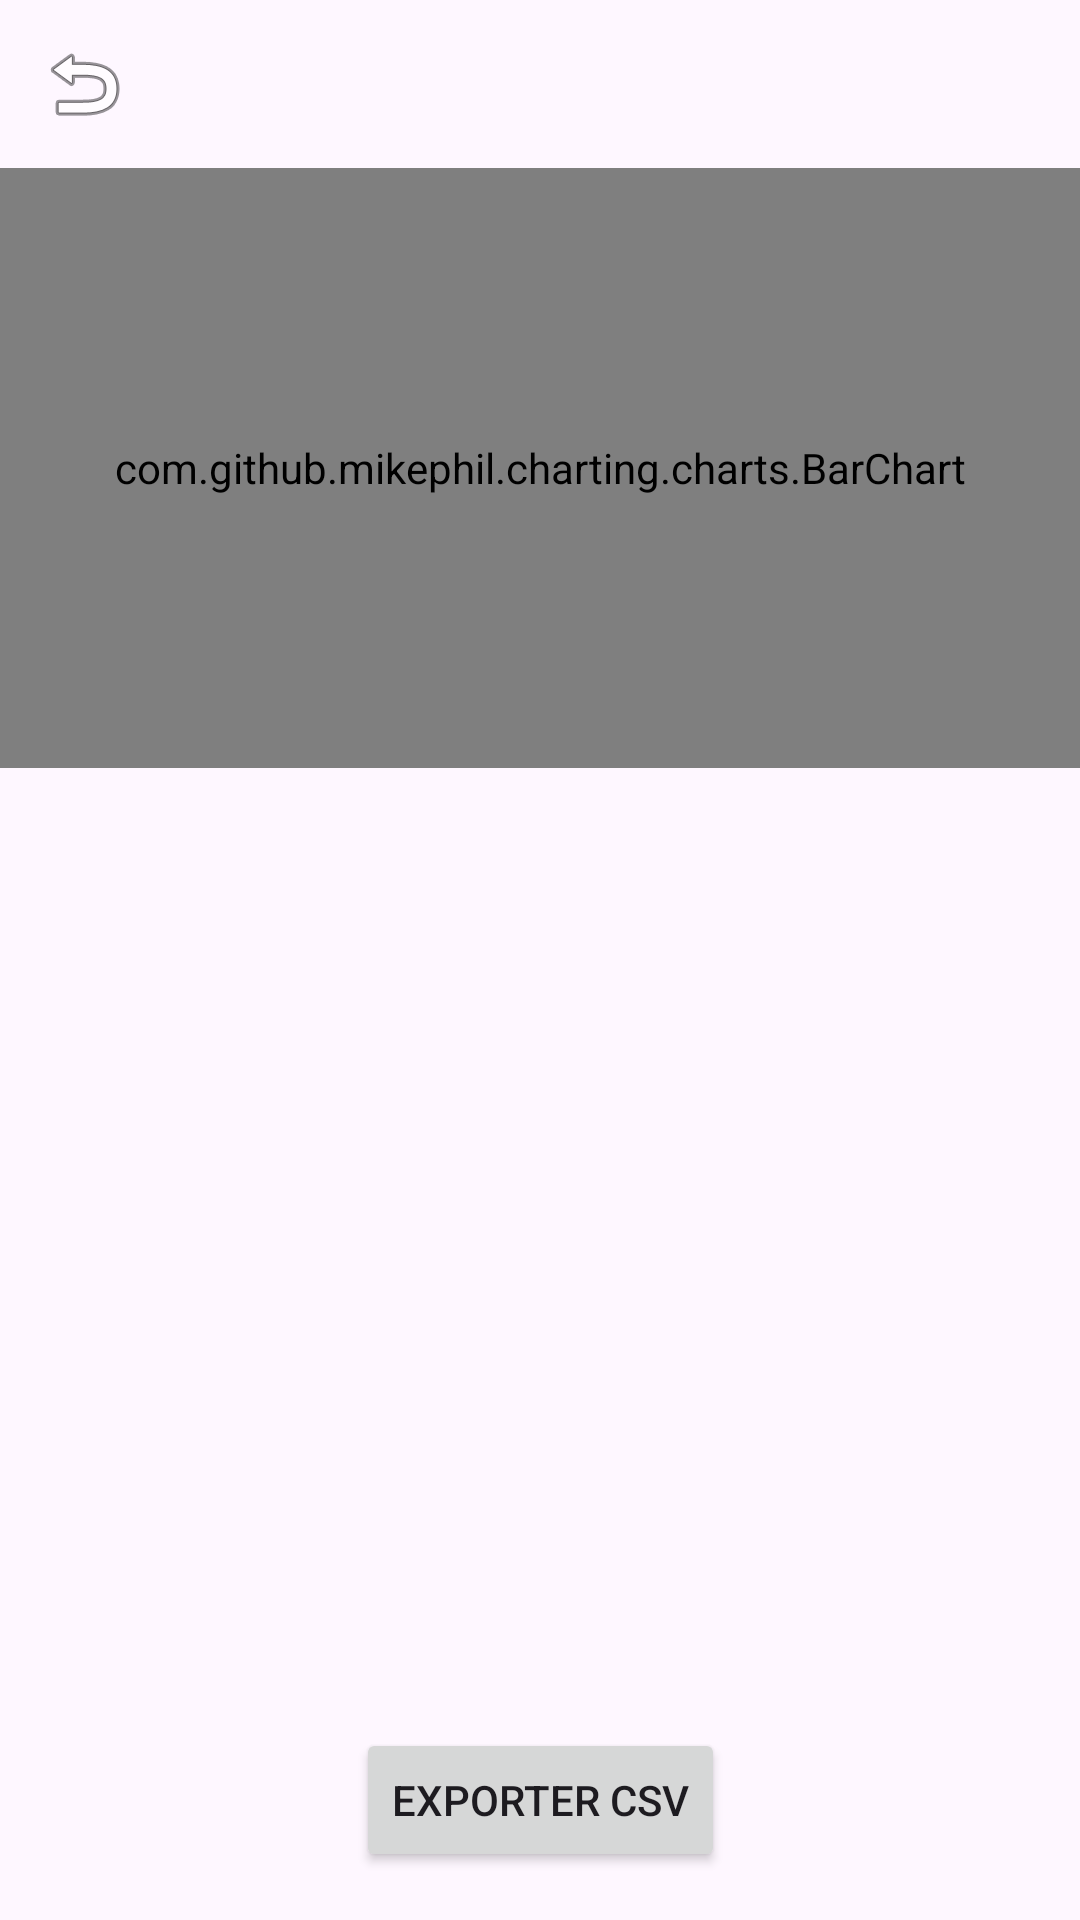

Where to tap for icons on this 1080 × 1920 app screen, as point (x, y):
Retour: point (85, 84)
